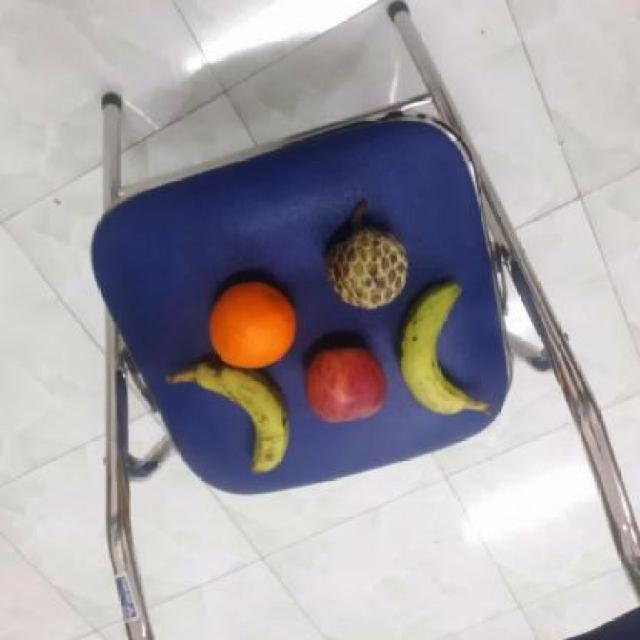apple: (298, 340, 384, 425)
banana: (177, 360, 294, 474), (394, 283, 491, 415)
oren: (203, 275, 294, 371)
sugar apple: (325, 224, 412, 310)
